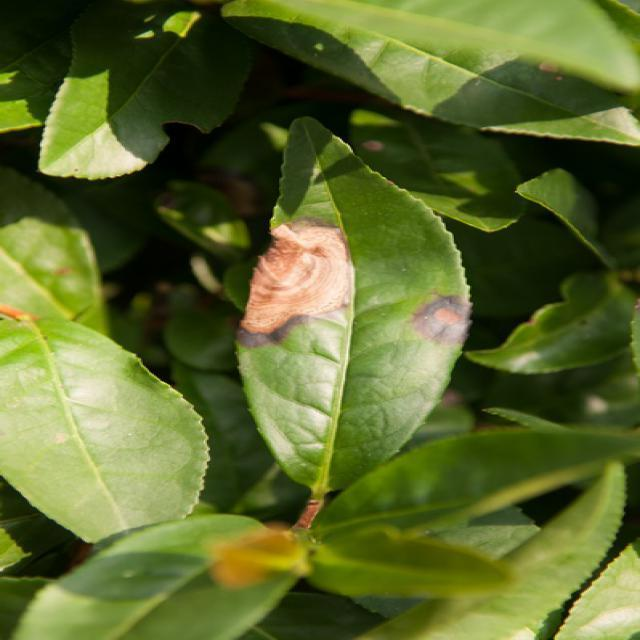Tea cloud leaf blight: (230, 218, 362, 332)
